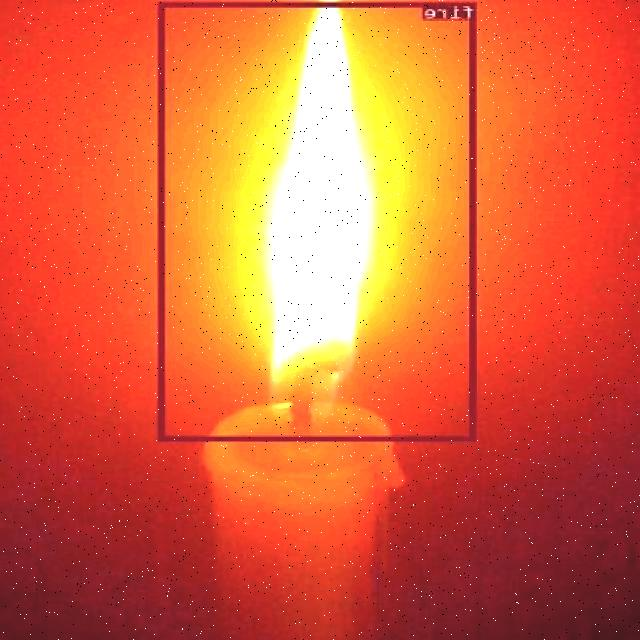fire: (160, 2, 477, 440)
